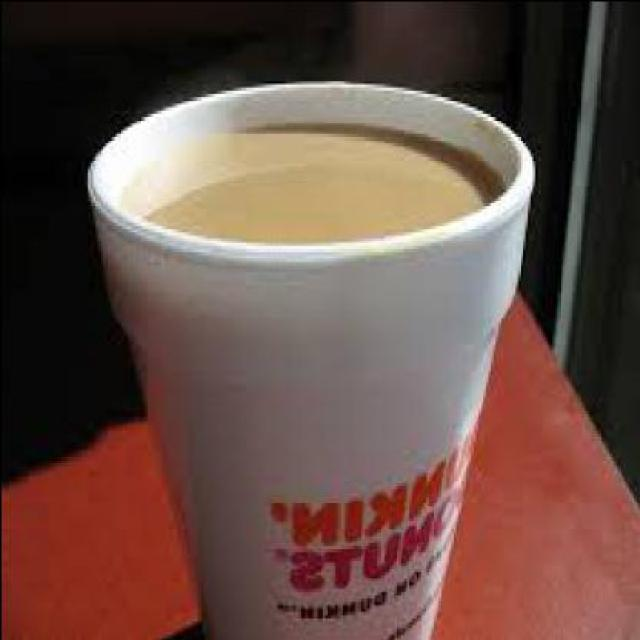PAPER: (87, 76, 536, 636)
